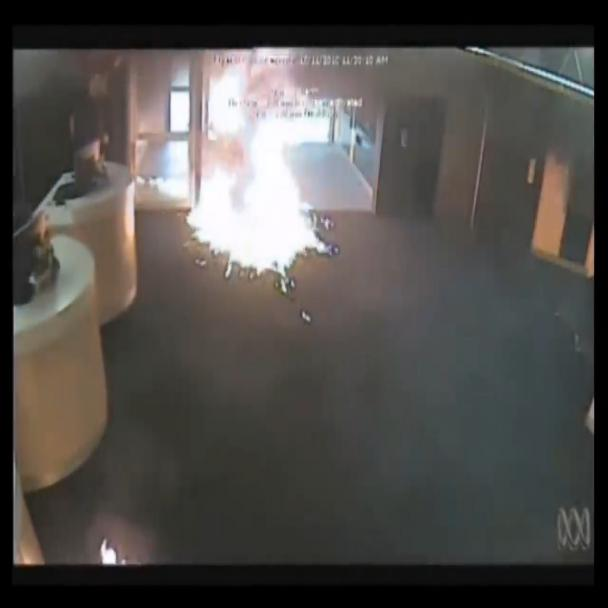Fire: (135, 48, 365, 342)
